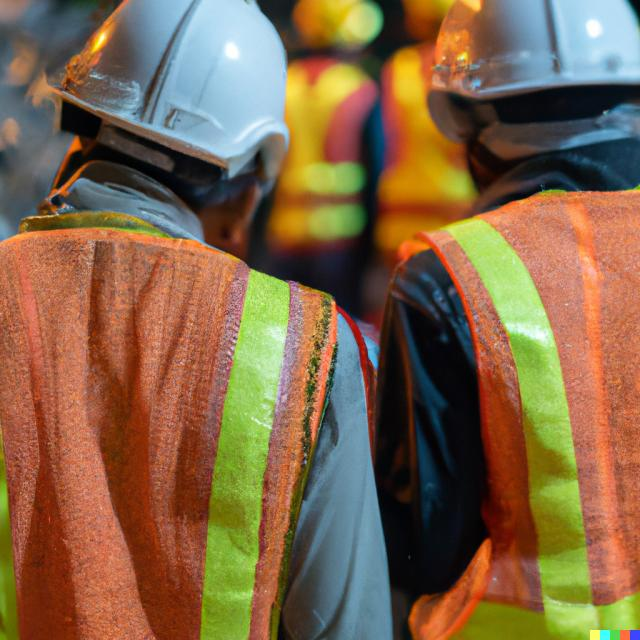Reflective-Jacket: (0, 169, 372, 640), (398, 165, 636, 640)
Safety-Helmet: (63, 4, 296, 169), (428, 0, 640, 108)
